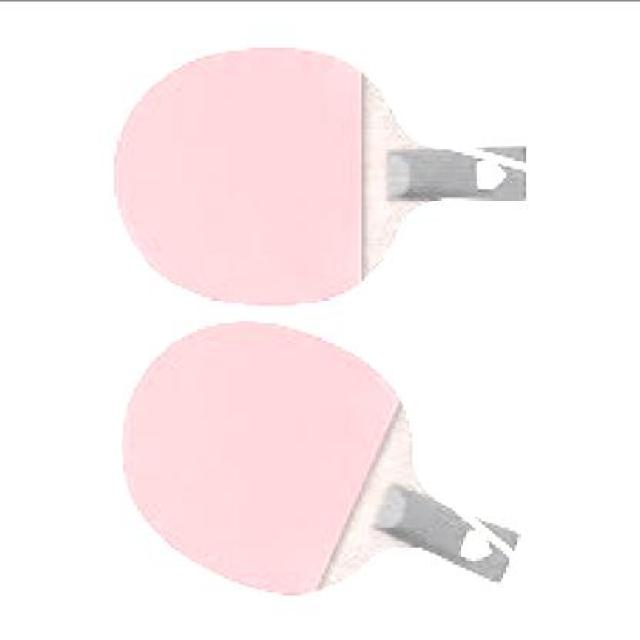table_tennis_racket: (115, 48, 531, 309), (123, 322, 514, 598)
